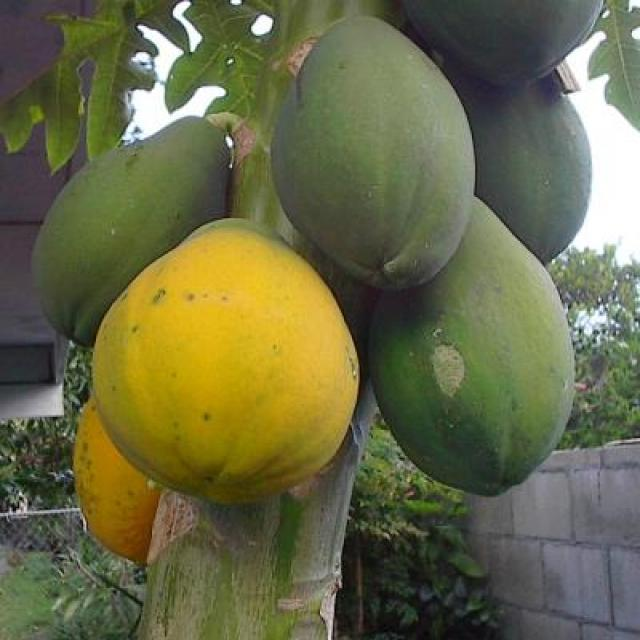Pepaya rippen: (80, 212, 365, 513), (59, 407, 162, 564)
Pepaya unrippen: (277, 7, 475, 286), (372, 264, 574, 498)
